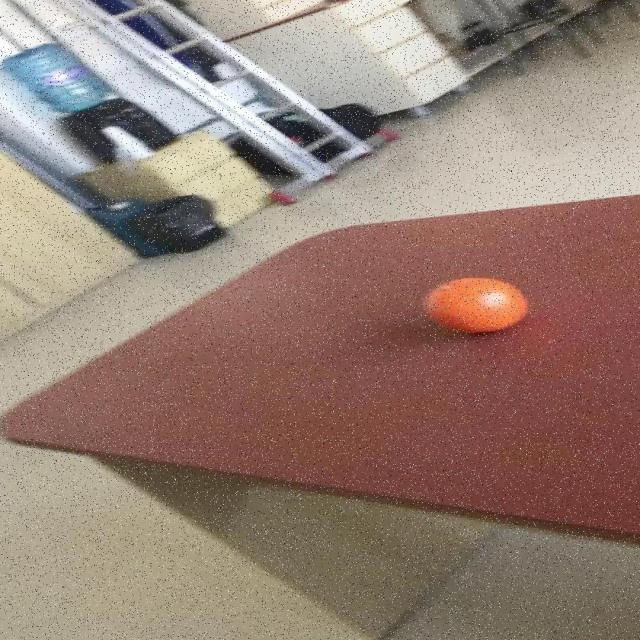Orange: (424, 276, 531, 334)
